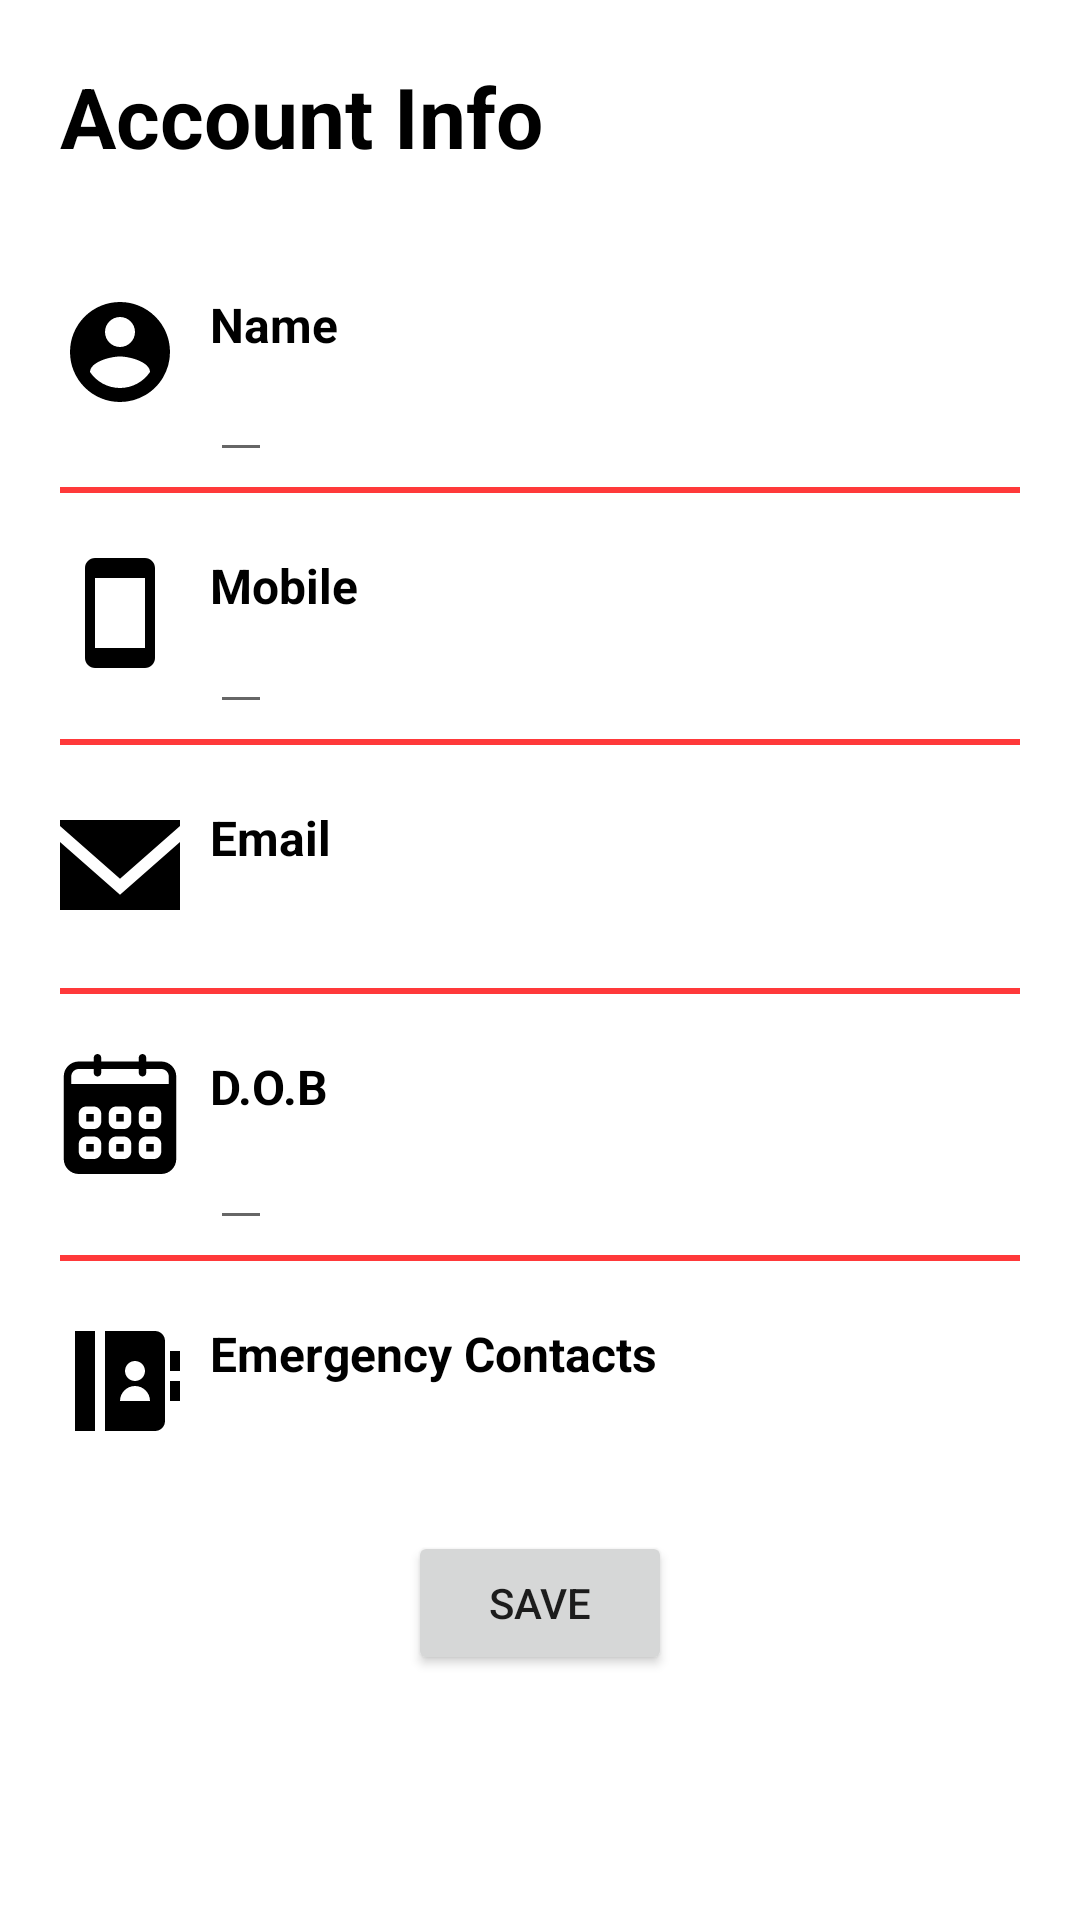

Where icons sit on this 1080*1920 app screen, as region(x1, y1, x2, y2):
calendar: region(63, 1054, 177, 1174)
personal details: region(70, 302, 170, 402)
